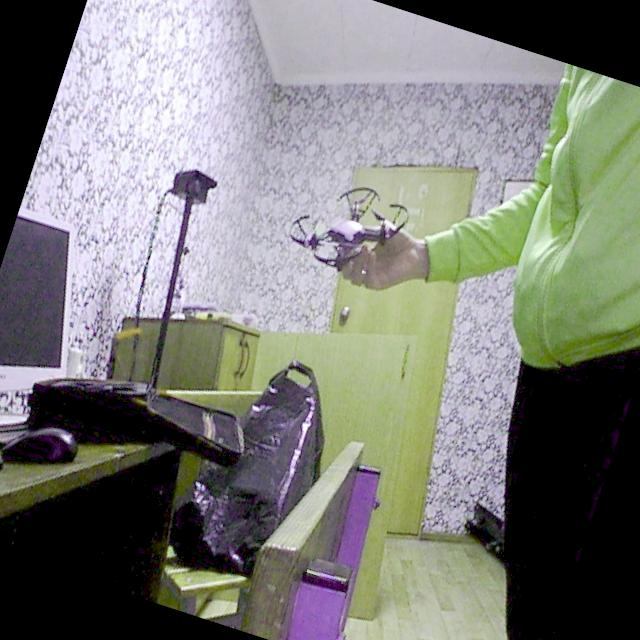drone: (275, 164, 420, 303)
